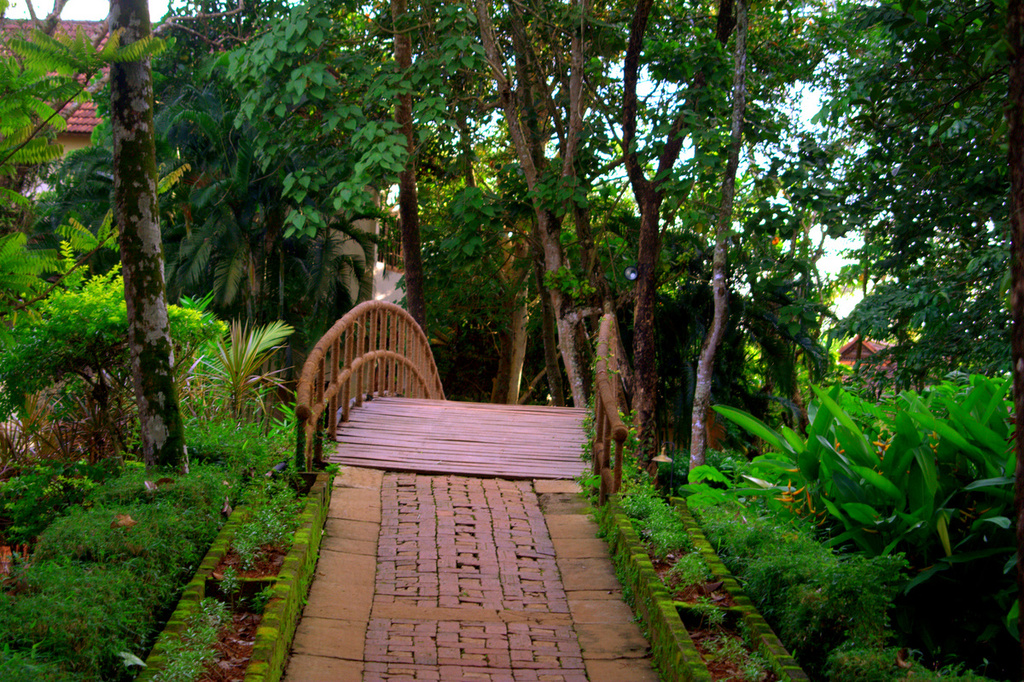Tree: (92, 0, 965, 533)
